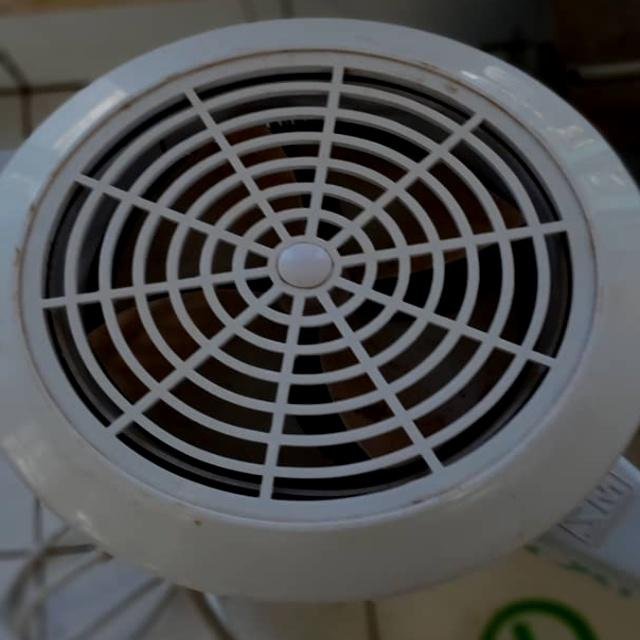Distilled Water Maker: (0, 4, 637, 604)
